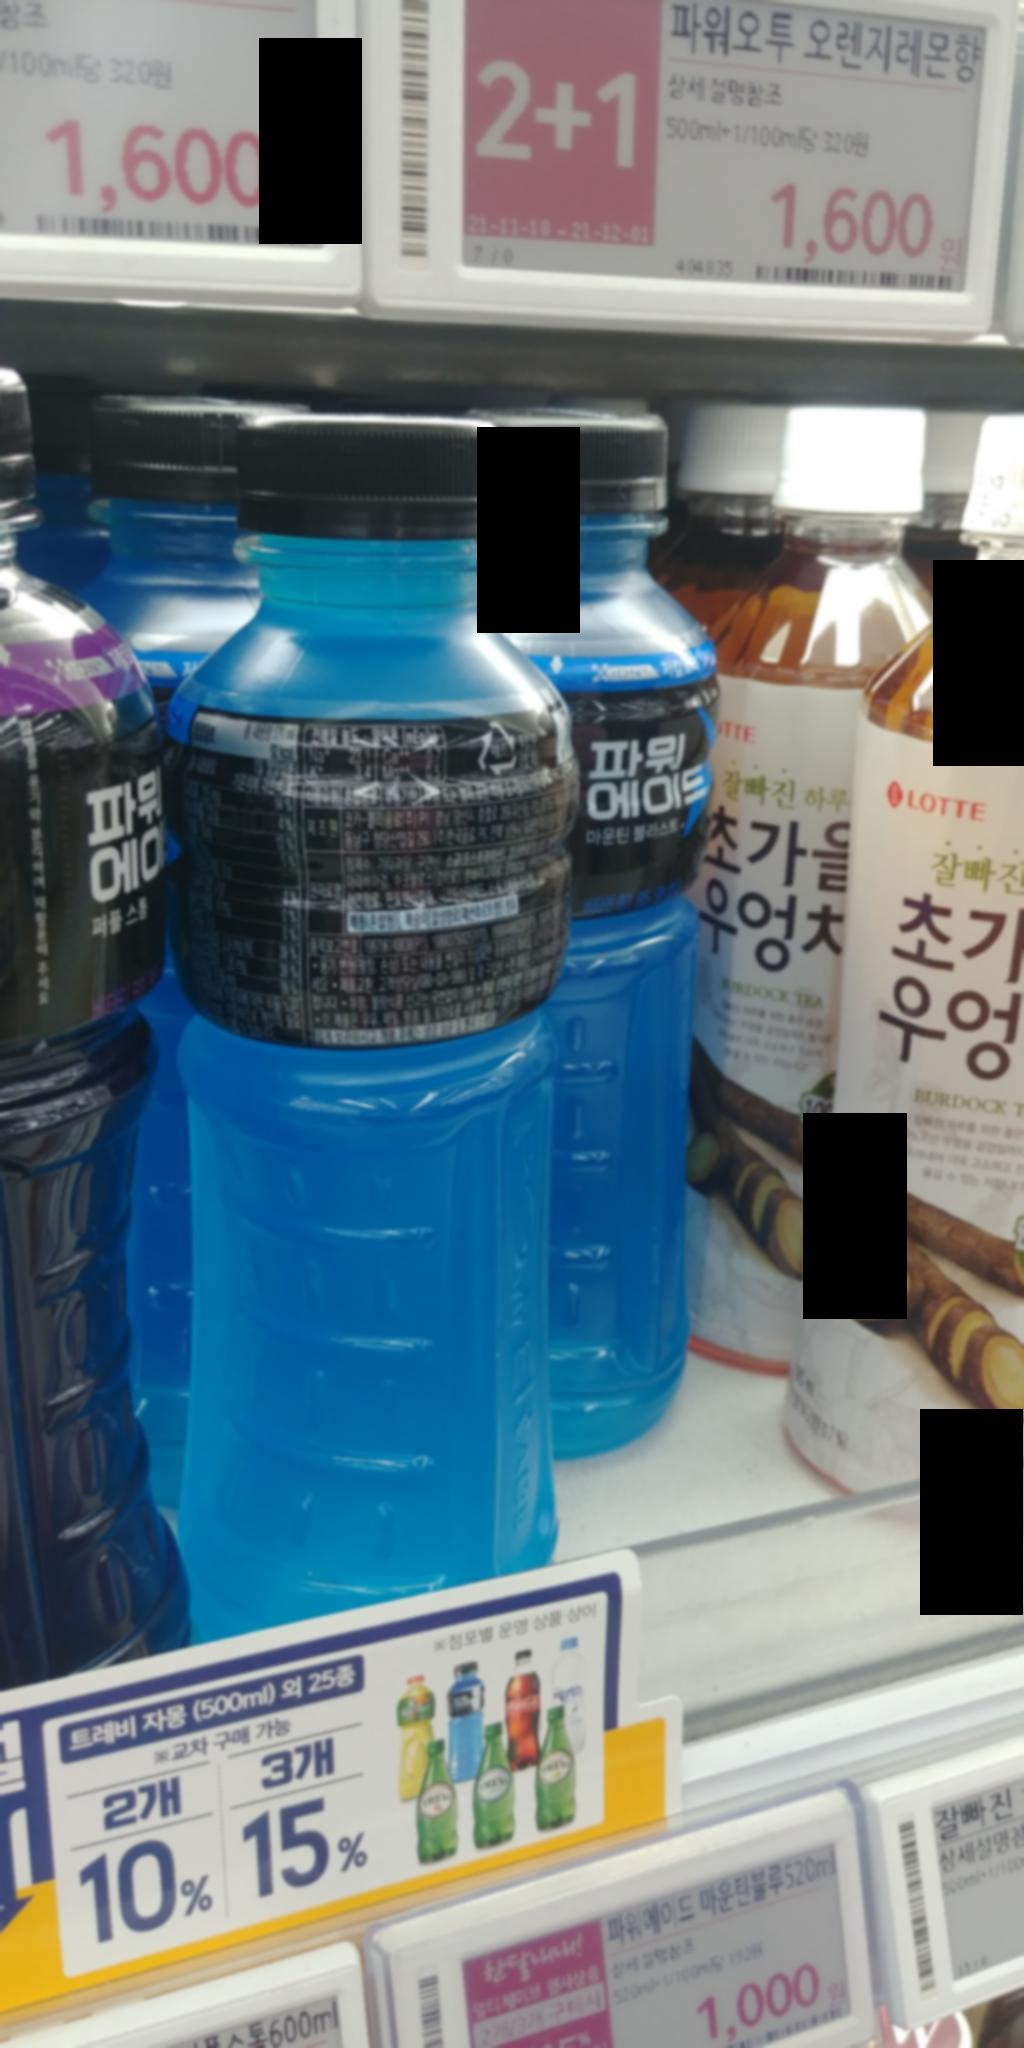powerade_mountainblast: (141, 406, 581, 1646)
